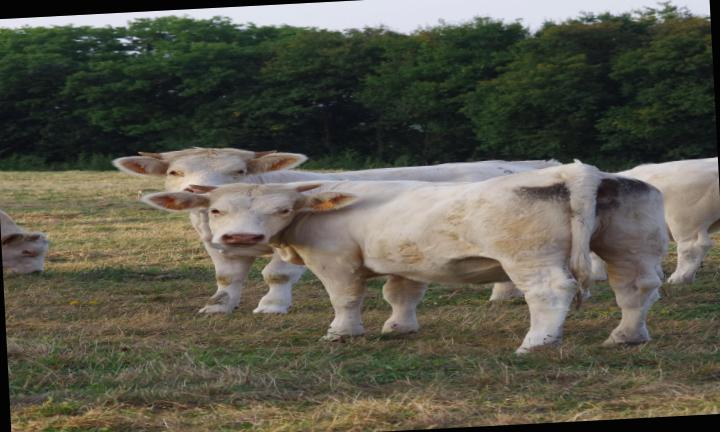Charolais: (143, 161, 667, 353)
